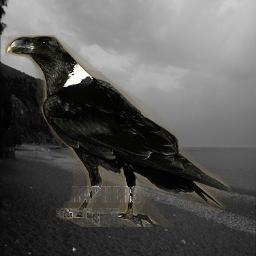Crow: (5, 35, 231, 227)
